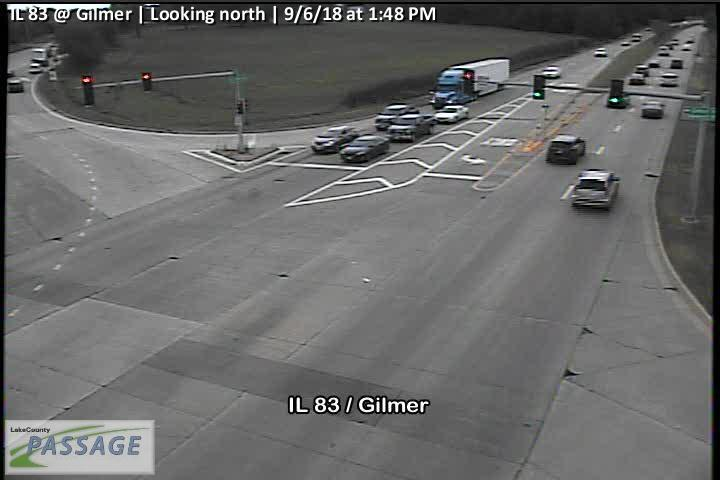SUV: (569, 169, 621, 211), (544, 134, 586, 166)
Sedan: (339, 134, 390, 163), (310, 126, 359, 154), (374, 103, 420, 131), (433, 105, 470, 123), (642, 101, 664, 118), (658, 73, 681, 87), (540, 65, 560, 79), (594, 48, 608, 58)
Truck: (430, 57, 510, 111), (385, 115, 434, 143)
